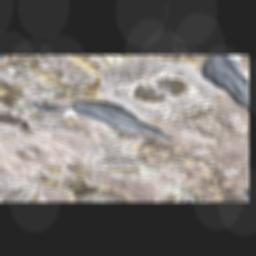Crow: (27, 80, 180, 163)
